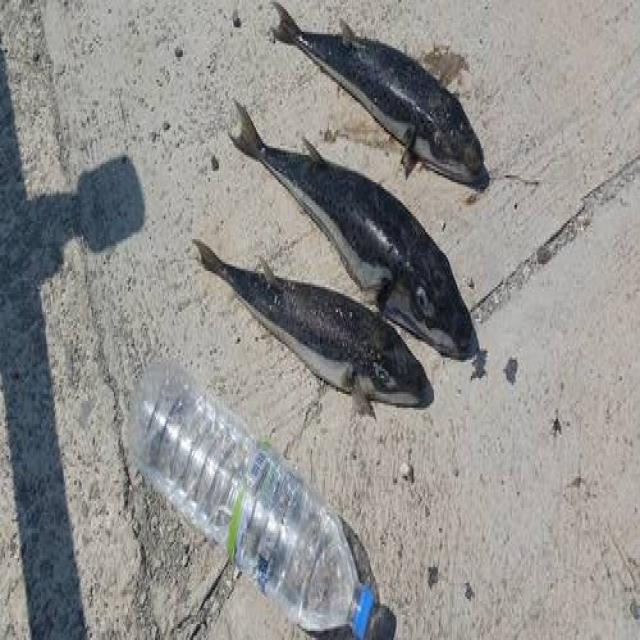Balik: (232, 105, 476, 357), (195, 242, 432, 414), (273, 3, 488, 189)
